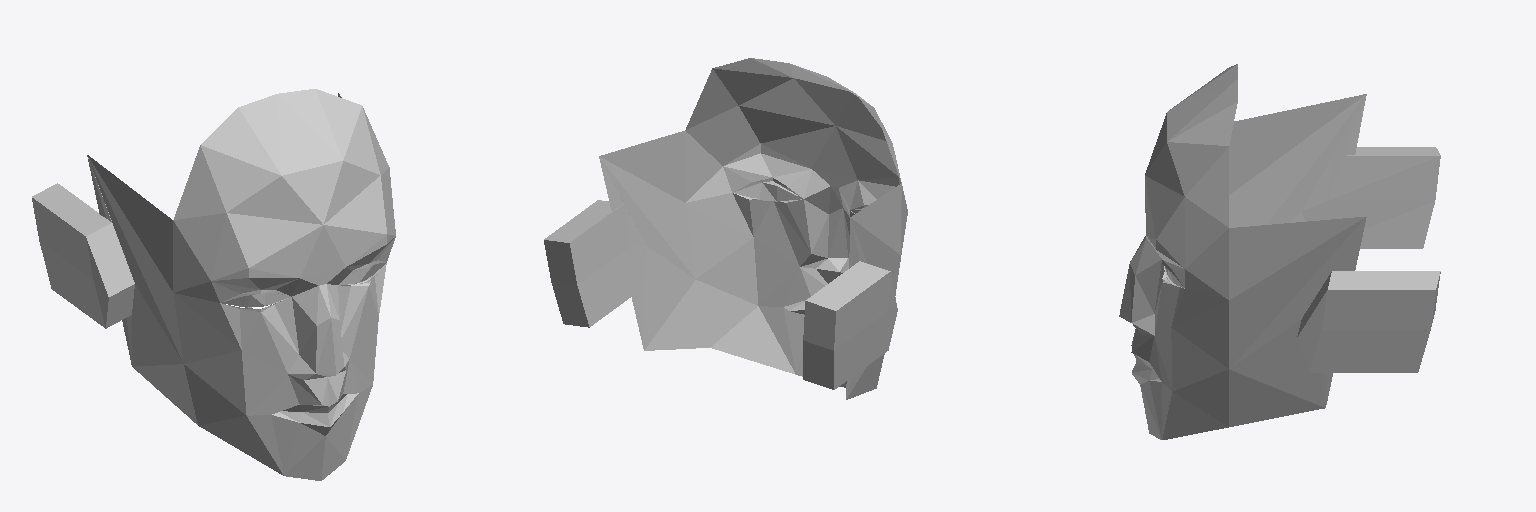
The model's file is occlusion_mask.obj.
3 renders of one model, left to right at view 1: azimuth 30°, elevation 25°; view 2: azimuth 150°, elevation 25°; view 3: azimuth 270°, elevation 25°, orthographic.
Visible parts, largest first — view 1: occluder_mask; view 2: occluder_mask; view 3: occluder_mask.
Part boxes in pixels (bbox=[...]): occluder_mask: bbox=[32, 89, 395, 480]; occluder_mask: bbox=[544, 58, 907, 399]; occluder_mask: bbox=[1119, 64, 1440, 439].
Bounding box in the file's own units: 0.1748 × 0.2026 × 0.1664.